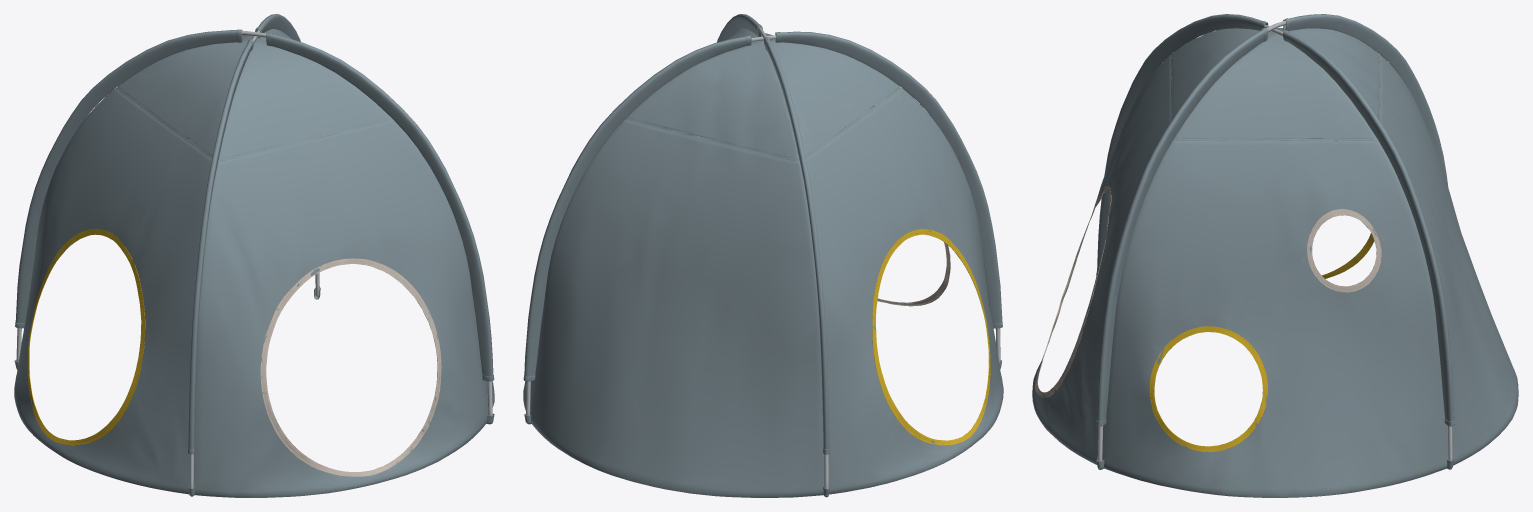
Rendered from dvargmas_namiot_dzieciecy_20641469.glb.
3 renders of one model, left to right at view 1: azimuth 30°, elevation 25°; view 2: azimuth 150°, elevation 25°; view 3: azimuth 270°, elevation 25°, orthographic.
Visible parts, largest first — view 1: dvargmas_namiot_dzieciecy_20641469; view 2: dvargmas_namiot_dzieciecy_20641469; view 3: dvargmas_namiot_dzieciecy_20641469.
Part boxes in pixels (bbox=[...]): dvargmas_namiot_dzieciecy_20641469: bbox=[14, 14, 494, 497]; dvargmas_namiot_dzieciecy_20641469: bbox=[523, 14, 1003, 497]; dvargmas_namiot_dzieciecy_20641469: bbox=[1032, 14, 1518, 497].
Bounding box in the file's own units: 0.9673 × 0.8172 × 0.9668.
Materials: 1 (1 with a texture image).
